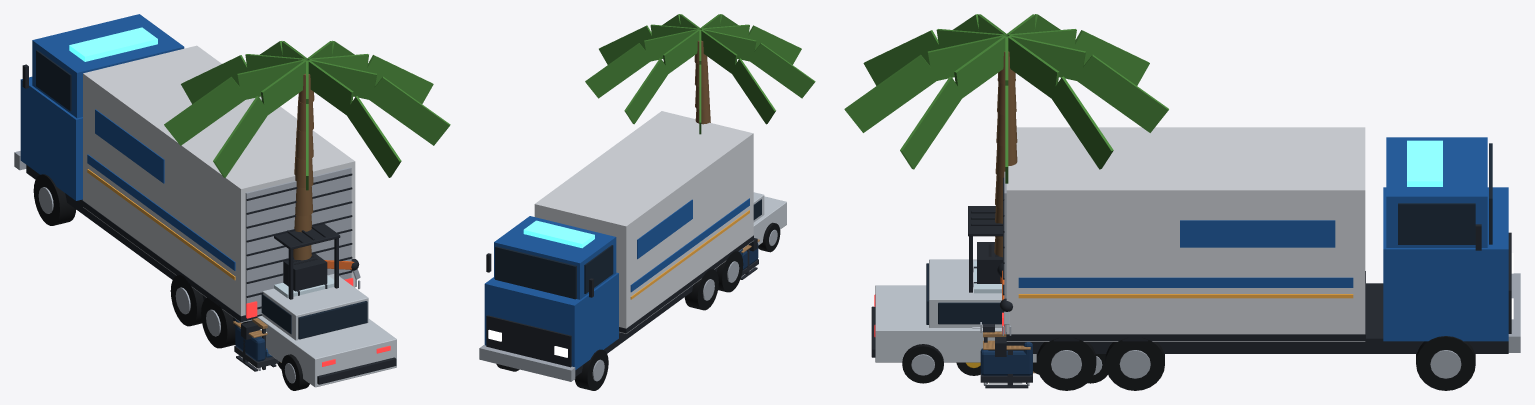
File: props.glb
3 renders of one model, left to right at view 1: azimuth 30°, elevation 25°; view 2: azimuth 150°, elevation 25°; view 3: azimuth 270°, elevation 25°, orthographic. The views are drawn at different scales.
Parts seen in each view (by area): view 1: Truck_Body, Palm_Parts, Car_Body, Truck, Forklift_Body, Rack_Parts, Sofa_Cushions, Stack_Parts; view 2: Truck_Body, Palm_Parts, Truck, Car_Body; view 3: Truck_Body, Palm_Parts, Car_Body, Truck, Forklift_Body, Sofa_Cushions, Rack_Parts.
Boxes of the visible parts, x1,y1,x2,y2 form: Truck_Body: (14,14,355,339); Palm_Parts: (164,40,450,260); Car_Body: (257,274,396,390); Truck: (33,174,235,348); Forklift_Body: (274,224,340,369); Rack_Parts: (283,253,327,291); Sofa_Cushions: (235,319,272,361); Stack_Parts: (274,275,334,298); Truck_Body: (479,111,757,381); Palm_Parts: (585,14,815,134); Truck: (496,251,743,390); Car_Body: (753,192,786,252); Truck_Body: (995,127,1520,356); Palm_Parts: (844,14,1168,257); Car_Body: (871,259,1107,383); Truck: (1036,336,1475,390); Forklift_Body: (956,206,1039,375); Sofa_Cushions: (980,342,1032,375); Rack_Parts: (977,242,1002,283).
Bounding box in the file's own units: 5.36 × 6.07 × 11.32.
42 materials, 3 textured.
